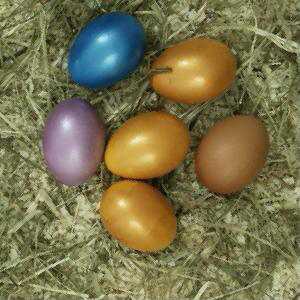egg: (104, 110, 190, 180), (194, 116, 270, 195), (68, 12, 146, 88), (149, 39, 238, 105), (42, 99, 106, 186), (100, 180, 178, 251)
